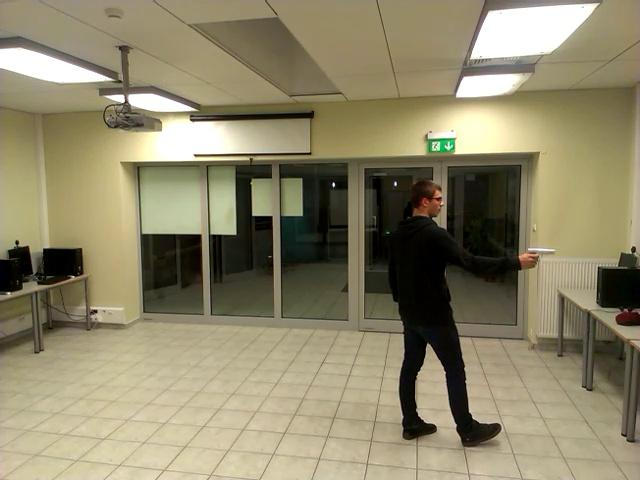gun: (521, 237, 556, 274)
